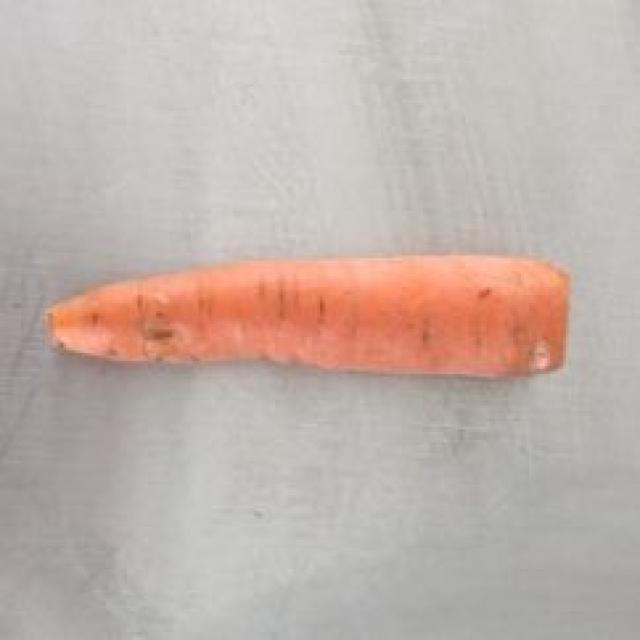carrot: (49, 270, 567, 378)
